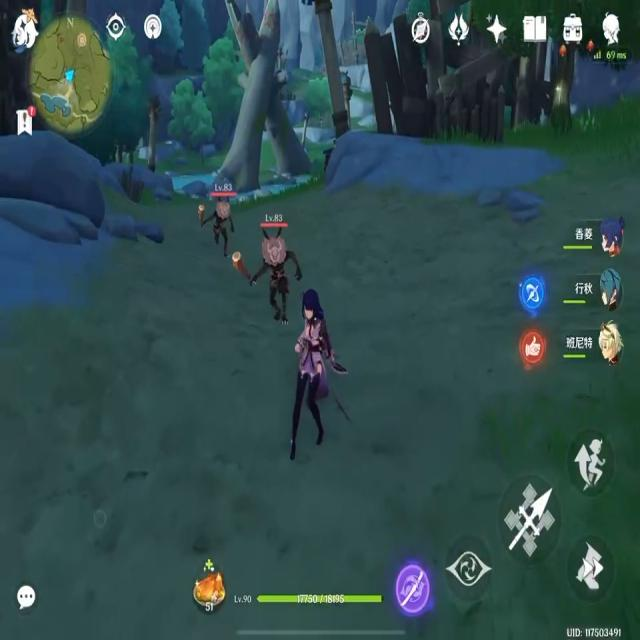genshin-hilichurls: (253, 229, 294, 322), (208, 198, 234, 253)
